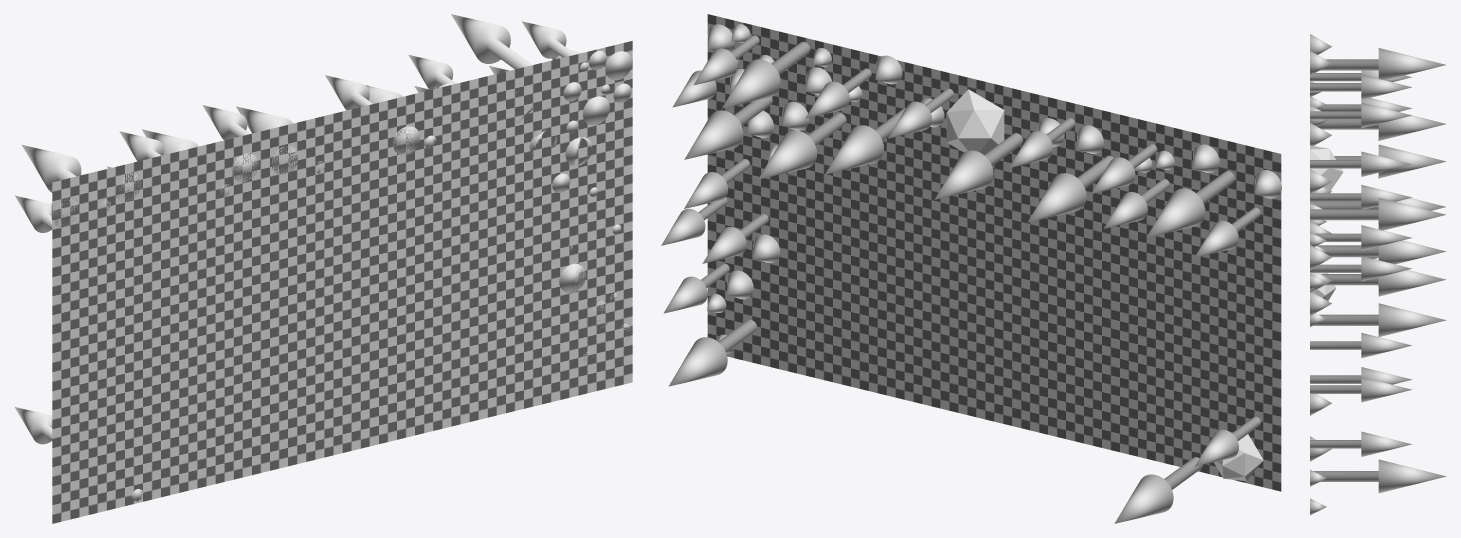
File: forest4.dae
3 renders of one model, left to right at view 1: azimuth 30°, elevation 25°; view 2: azimuth 150°, elevation 25°; view 3: azimuth 270°, elevation 25°, orthographic. The views are drawn at different scales.
Visible parts, largest first — view 1: Plane.004, Cone.212, Cone.252, Cone.221, Cone.247, Cone.232, Cone.206, Cone.259, Cone.257, Cone.234, Cone.253, Cone.248; view 2: Plane.004, Icosphere.003, Cone.219, Cone.204, Cone.234, Cone.252, Cone.212, Cone.242, Cone.224, Cone.248, Cone.231, Cone.221 (+13 smaller); view 3: Cone.212, Cone.242, Cone.219, Cone.252, Cone.204, Cone.224, Cone.248, Cone.247, Cone.172, Cone.216, Cone.232, Cone.253 (+19 smaller).
Part boxes in pixels (x1=…): Plane.004: x1=52, y1=41, x2=632, y2=523; Cone.212: x1=451, y1=14, x2=531, y2=74; Cone.252: x1=22, y1=145, x2=110, y2=211; Cone.221: x1=522, y1=21, x2=588, y2=71; Cone.247: x1=202, y1=105, x2=249, y2=140; Cone.232: x1=325, y1=75, x2=372, y2=110; Cone.206: x1=408, y1=55, x2=455, y2=89; Cone.259: x1=14, y1=407, x2=52, y2=444; Cone.257: x1=15, y1=195, x2=52, y2=232; Cone.234: x1=236, y1=106, x2=325, y2=173; Cone.253: x1=119, y1=131, x2=164, y2=161; Cone.248: x1=142, y1=129, x2=230, y2=196; Plane.004: x1=707, y1=14, x2=1281, y2=491; Icosphere.003: x1=946, y1=89, x2=1004, y2=154; Cone.219: x1=668, y1=319, x2=756, y2=386; Cone.204: x1=758, y1=113, x2=846, y2=179; Cone.234: x1=934, y1=133, x2=1022, y2=199; Cone.252: x1=1146, y1=171, x2=1234, y2=237; Cone.212: x1=722, y1=41, x2=810, y2=108; Cone.242: x1=1114, y1=457, x2=1202, y2=523; Cone.224: x1=684, y1=97, x2=772, y2=159; Cone.248: x1=1027, y1=155, x2=1113, y2=222; Cone.231: x1=825, y1=108, x2=905, y2=174; Cone.221: x1=693, y1=35, x2=759, y2=85; Cone.212: x1=1310, y1=198, x2=1446, y2=230; Cone.242: x1=1313, y1=303, x2=1446, y2=336; Cone.219: x1=1313, y1=459, x2=1446, y2=493; Cone.252: x1=1320, y1=48, x2=1445, y2=80; Cone.204: x1=1318, y1=240, x2=1446, y2=264; Cone.224: x1=1321, y1=270, x2=1445, y2=296; Cone.248: x1=1317, y1=115, x2=1446, y2=140; Cone.247: x1=1310, y1=102, x2=1412, y2=128; Cone.172: x1=1310, y1=377, x2=1411, y2=402; Cone.216: x1=1310, y1=431, x2=1411, y2=456; Cone.232: x1=1310, y1=151, x2=1411, y2=176; Cone.253: x1=1310, y1=74, x2=1411, y2=99.
Bounding box in the file's own units: 64.07 × 16 × 38.05.
